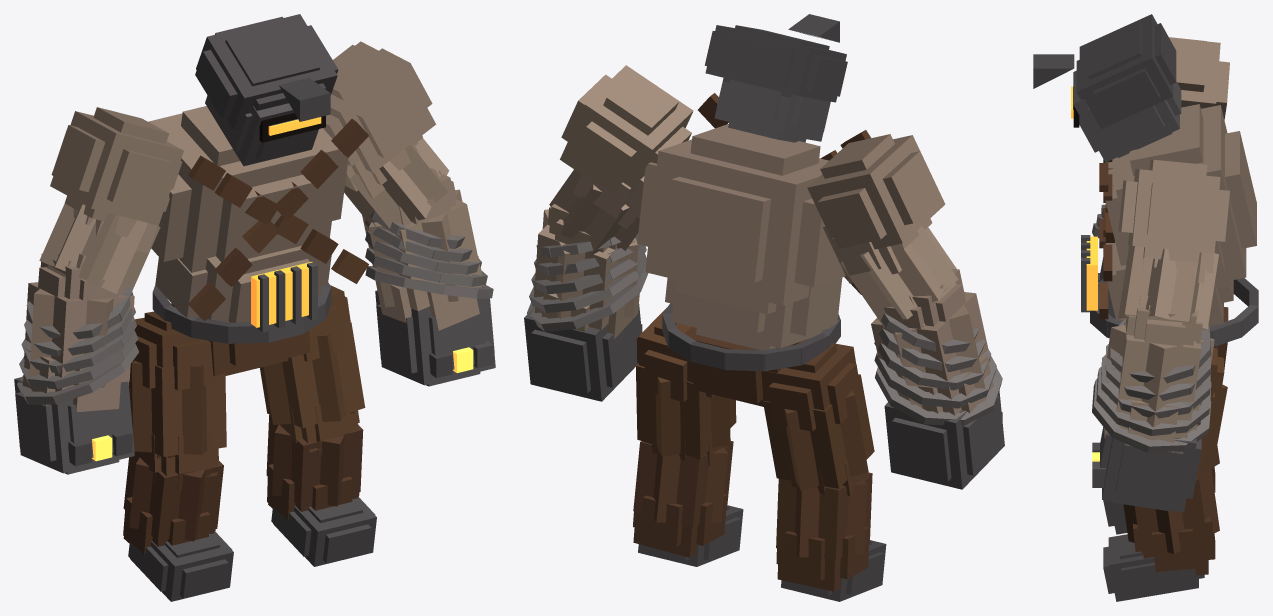
3 views of the same model, side by side, from view 1: azimuth 30°, elevation 25°; view 2: azimuth 150°, elevation 25°; view 3: azimuth 270°, elevation 25° (orthographic). The views are drawn at different scales.
Parts seen in each view (by area): view 1: AnvilBrute; view 2: AnvilBrute; view 3: AnvilBrute.
Part boxes in pixels (left/top/right/bottom): AnvilBrute: left=14, top=14, right=495, bottom=601; AnvilBrute: left=524, top=14, right=1004, bottom=601; AnvilBrute: left=1033, top=14, right=1258, bottom=601.
Bounding box in the file's own units: 1.26 × 1.41 × 0.5549.
